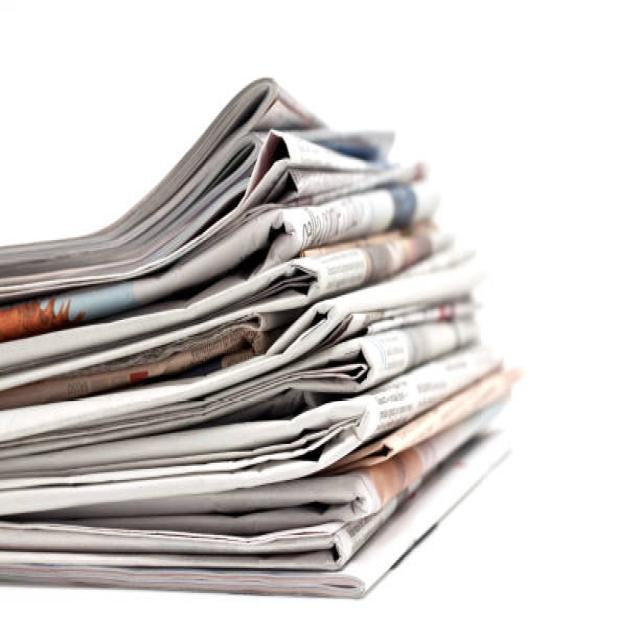electronic: (0, 73, 523, 598), (0, 415, 511, 597)
